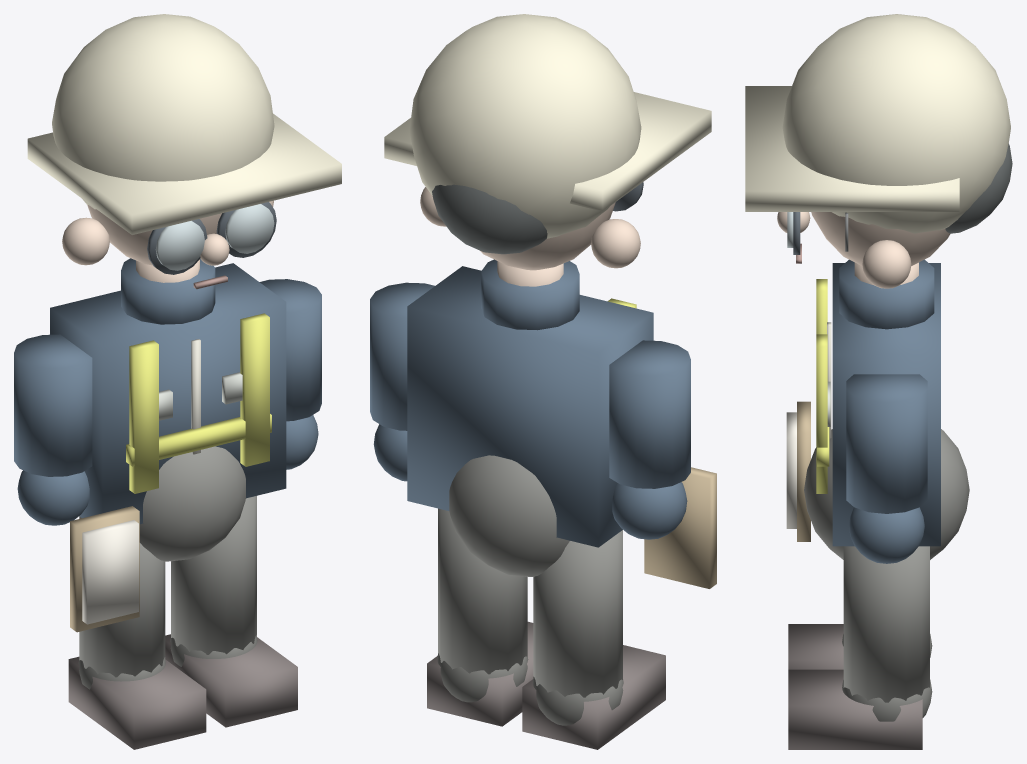
File: mercy_person_21.glb
3 renders of one model, left to right at view 1: azimuth 30°, elevation 25°; view 2: azimuth 150°, elevation 25°; view 3: azimuth 270°, elevation 25°, orthographic. The views are drawn at different scales.
Parts seen in each view (by area): view 1: SkinClothing_10, SkinClothing_0, Arm_Left, SkinClothing_5, Leg_Right, SkinClothing_1, Boot_Left, Boot_Right, Leg_Left, Arm_Right, SkinClothing_13, SkinClothing_2 (+5 smaller); view 2: SkinClothing_0, SkinClothing_10, Arm_Left, Leg_Left, Leg_Right, SkinClothing_1, Arm_Right, Boot_Left, SkinClothing_2, SkinClothing_12, SkinClothing_9, Boot_Right; view 3: SkinClothing_10, SkinClothing_0, Arm_Right, Leg_Right, Boot_Right, SkinClothing_2, SkinClothing_1, SkinClothing_5, Boot_Left, SkinClothing_12, SkinClothing_9, SkinClothing_13.
Boxes of the visible parts, x1,y1,x2,y2 form: SkinClothing_10: [27, 14, 341, 234]; SkinClothing_0: [50, 258, 286, 524]; Arm_Left: [14, 334, 92, 525]; SkinClothing_5: [126, 313, 271, 493]; Leg_Right: [170, 496, 257, 666]; SkinClothing_1: [139, 446, 245, 561]; Boot_Left: [68, 656, 206, 749]; Boot_Right: [165, 634, 297, 727]; Leg_Left: [78, 516, 165, 689]; Arm_Right: [259, 279, 321, 469]; SkinClothing_13: [82, 520, 138, 624]; SkinClothing_2: [62, 200, 273, 282]; SkinClothing_0: [407, 259, 653, 547]; SkinClothing_10: [384, 14, 711, 238]; Arm_Left: [609, 340, 690, 539]; Leg_Left: [532, 530, 623, 725]; Leg_Right: [437, 508, 528, 702]; SkinClothing_1: [449, 455, 569, 576]; Arm_Right: [370, 282, 434, 481]; Boot_Left: [522, 645, 665, 749]; SkinClothing_2: [420, 187, 640, 286]; SkinClothing_12: [644, 467, 716, 588]; SkinClothing_9: [432, 184, 547, 254]; Boot_Right: [427, 621, 533, 726]; SkinClothing_10: [745, 14, 1010, 233]; SkinClothing_0: [832, 259, 940, 546]; Arm_Right: [846, 374, 927, 563]; Leg_Right: [842, 546, 932, 721]; Boot_Right: [788, 669, 922, 749]; SkinClothing_2: [777, 212, 950, 288]; SkinClothing_1: [804, 429, 969, 559]; SkinClothing_5: [816, 279, 829, 493]; Boot_Left: [788, 624, 843, 669]; SkinClothing_12: [797, 401, 810, 541]; SkinClothing_9: [945, 143, 1012, 233]; SkinClothing_13: [786, 412, 796, 528].
Size of the model in its own units: 1.16 by 2.49 by 0.879.
